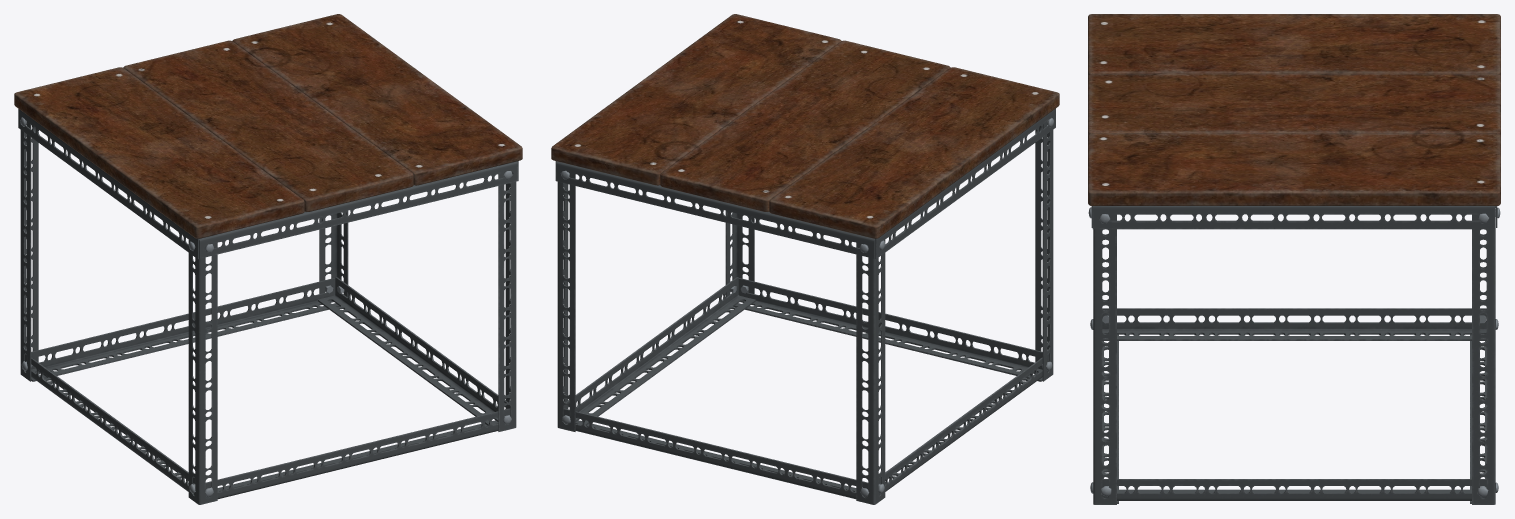
Rendered from industrial_coffee_table.glb.
The picture shows the model from 3 angles, left to right: view 1: azimuth 30°, elevation 25°; view 2: azimuth 150°, elevation 25°; view 3: azimuth 270°, elevation 25°; orthographic projection. The views are drawn at different scales.
Parts seen in each view (by area): view 1: industrial_coffee_table; view 2: industrial_coffee_table; view 3: industrial_coffee_table.
Part boxes in pixels (x1=…): industrial_coffee_table: x1=14, y1=14, x2=522, y2=504; industrial_coffee_table: x1=551, y1=14, x2=1059, y2=504; industrial_coffee_table: x1=1088, y1=14, x2=1500, y2=504.
Size of the model in its own units: 0.7783 by 0.6384 by 0.7579.
Materials: 1 (1 with a texture image).
